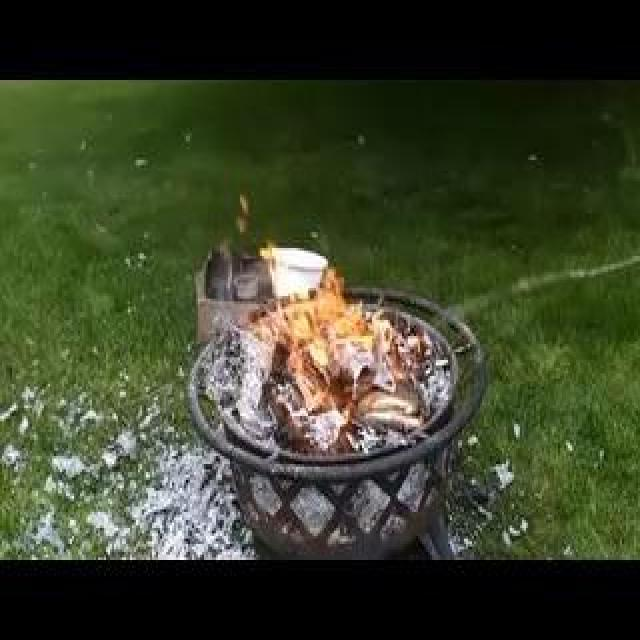Fire: (234, 270, 310, 370)
